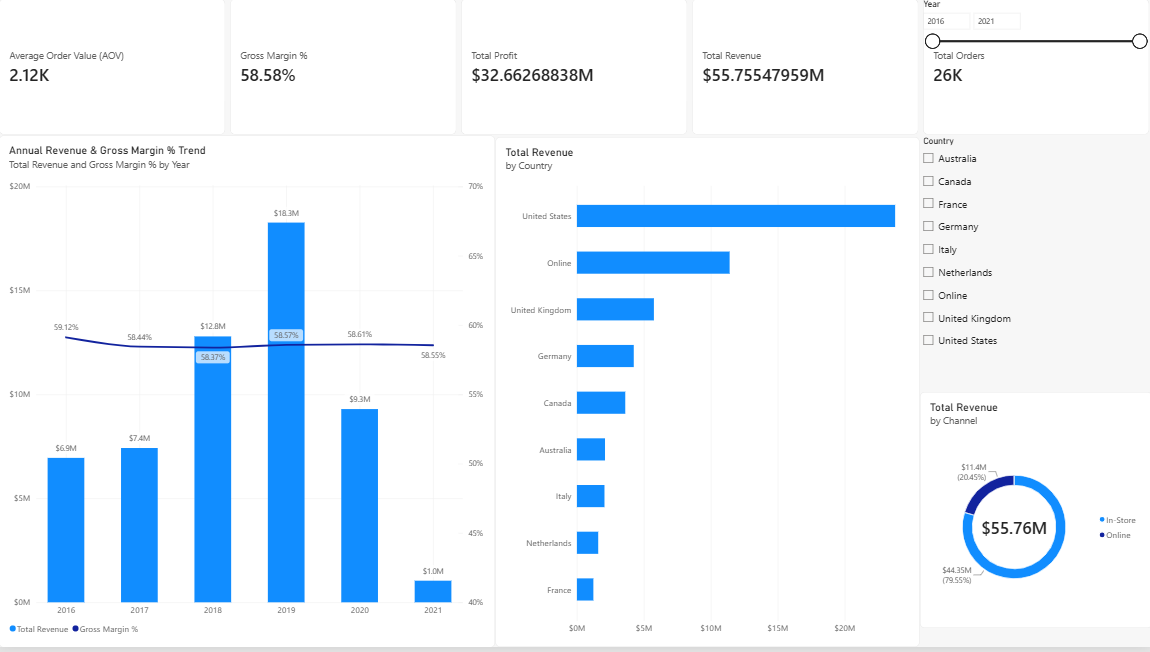

This screenshot's page, from the dashboard's own definition file:
{"tool":"powerbi","page":{"name":"Executive Overview","canvas":[1920,1080],"ordinal":0},"visuals":[{"type":"cardVisual","fields":{"Data":["_Measures.Average Order Value (AOV)","_Measures.Gross Margin %","_Measures.Total Profit","_Measures.Total Revenue","_Measures.Total Orders"]},"box":[0,0,1920,226.7],"z":0},{"type":"lineClusteredColumnComboChart","title":"Annual Revenue & Gross Margin % Trend","fields":{"Category":["Dim_Date.Year"],"Y":["_Measures.Total Revenue"],"Y2":["_Measures.Gross Margin %"]},"box":[0,227.3,826.7,853.3],"z":1000},{"type":"donutChart","fields":{"Category":["Fact_sales.Channel"],"Y":["_Measures.Total Revenue"]},"box":[1534.1,654.5,386.4,393.2],"z":2000},{"type":"clusteredBarChart","fields":{"Category":["Dim_stores.Country"],"Y":["_Measures.Total Revenue"]},"box":[827.3,229.5,706.7,850],"z":3000},{"type":"slicer","fields":{"Values":["Dim_Date.Year"]},"box":[1533.3,0,385,280],"z":4000},{"type":"slicer","fields":{"Values":["Dim_stores.Country"]},"box":[1531.8,227.3,386.4,427.3],"z":5000}]}

Visuals, with their boxes in screenshot pixels (x1, y1, x2, y2), scaled from the page's 1920x1080 canvas onto the 1150x652 screenshot:
cardVisual - _Measures.Average Order Value (AOV) x _Measures.Gross Margin %: (0, 0, 1149, 137)
"Annual Revenue & Gross Margin % Trend" lineClusteredColumnComboChart: (0, 137, 495, 651)
donutChart - Fact_sales.Channel x _Measures.Total Revenue: (919, 395, 1149, 633)
clusteredBarChart - Dim_stores.Country x _Measures.Total Revenue: (496, 139, 919, 651)
slicer - Dim_Date.Year: (918, 0, 1149, 169)
slicer - Dim_stores.Country: (917, 137, 1149, 395)
